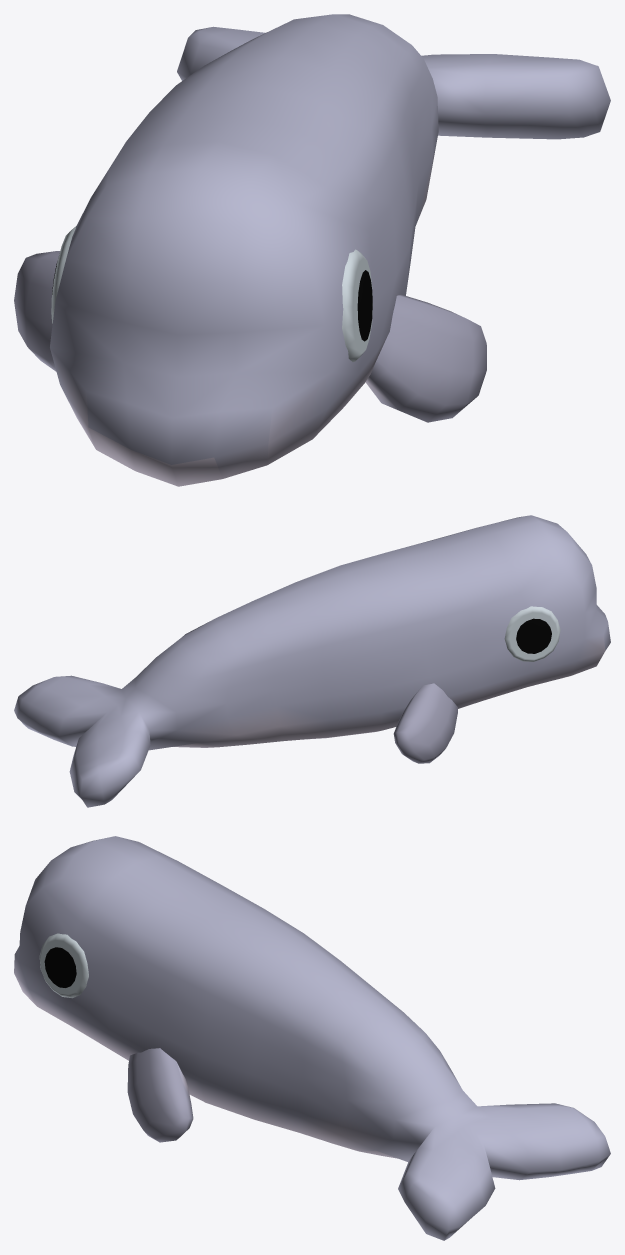
File: Beluga.glb
The picture shows the model from 3 angles, top to bottom: view 1: azimuth 30°, elevation 25°; view 2: azimuth 150°, elevation 25°; view 3: azimuth 270°, elevation 25°; orthographic projection. The views are drawn at different scales.
Parts seen in each view (by area): view 1: 13; view 2: 13; view 3: 13.
Part boxes in pixels (left/top/right/bottom): 13: left=14, top=14, right=610, bottom=486; 13: left=14, top=515, right=610, bottom=807; 13: left=14, top=836, right=610, bottom=1240.
Size of the model in its own units: 1.4 by 0.5762 by 1.49.
